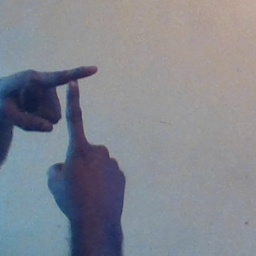T: (15, 55, 125, 170)
